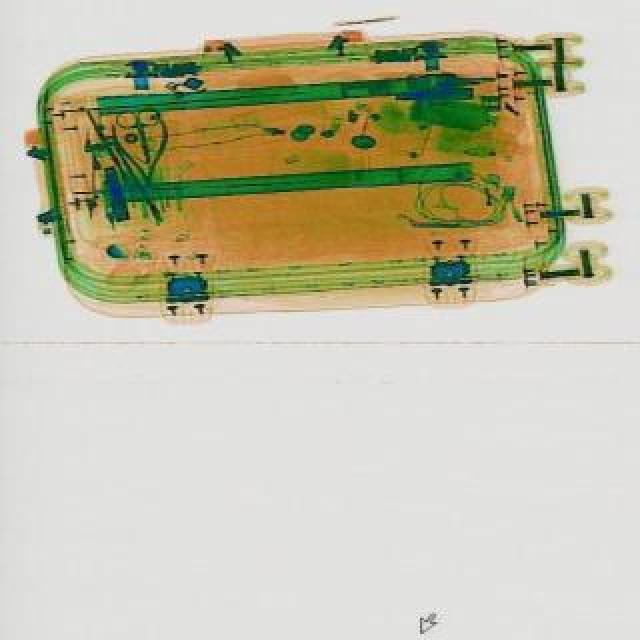pliers: (112, 106, 168, 170)
wrench: (108, 120, 176, 198)
